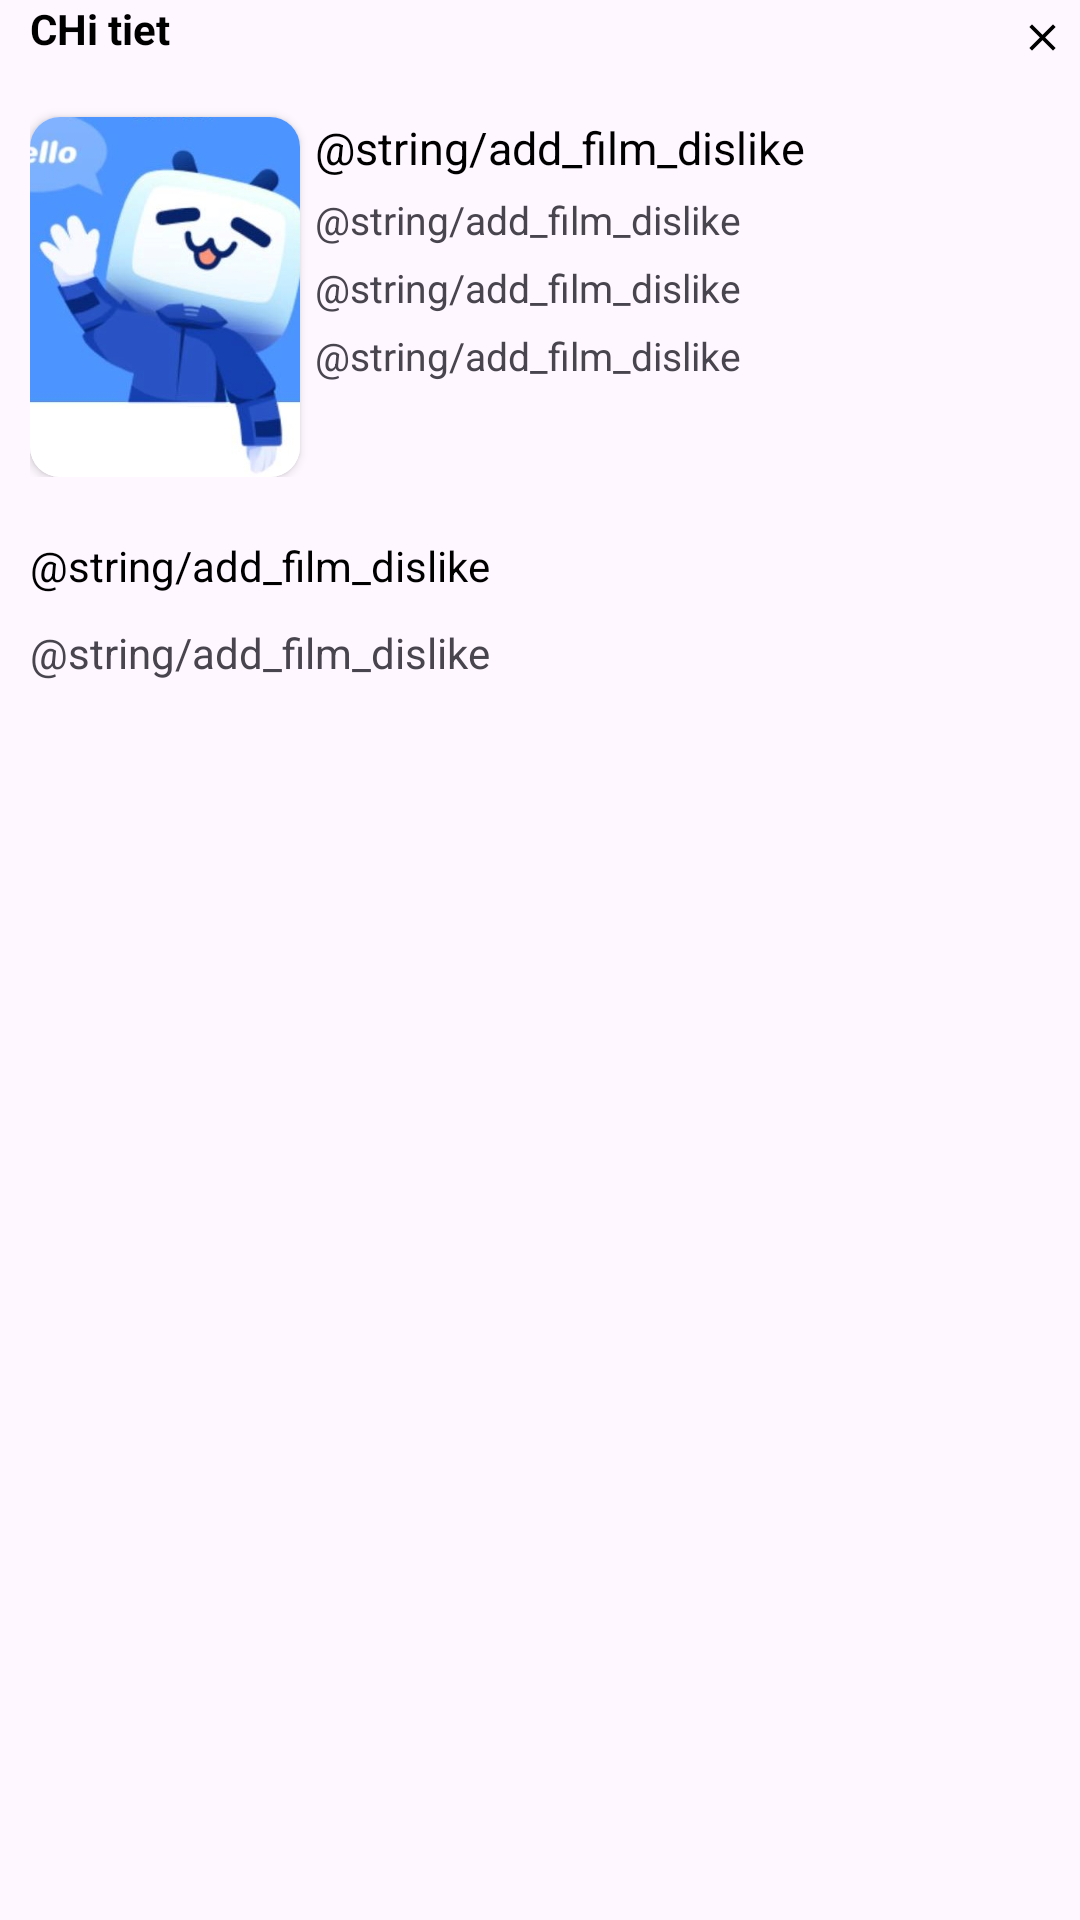

Screen size 1080px×1920px. Icon name, then its box in pixels as rect(x1, y1, x2, y2):
close: rect(1029, 24, 1056, 51)
